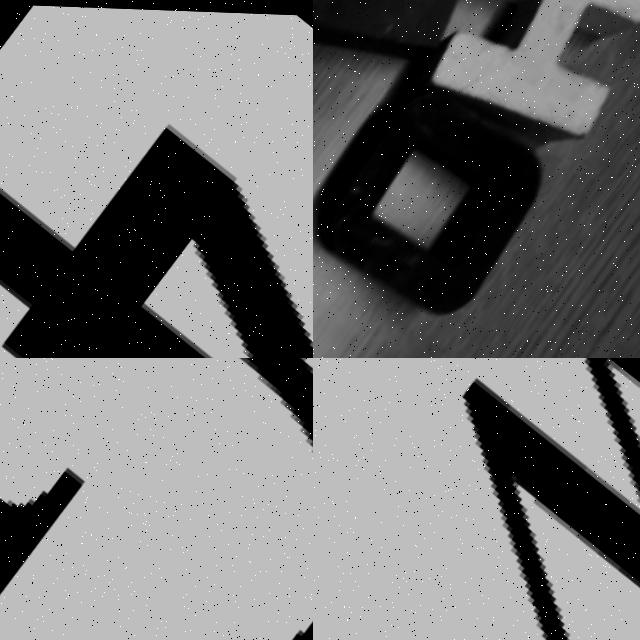G: (0, 358, 313, 640)
H: (362, 0, 640, 190)
O: (313, 56, 575, 353)
W: (313, 358, 640, 640)
